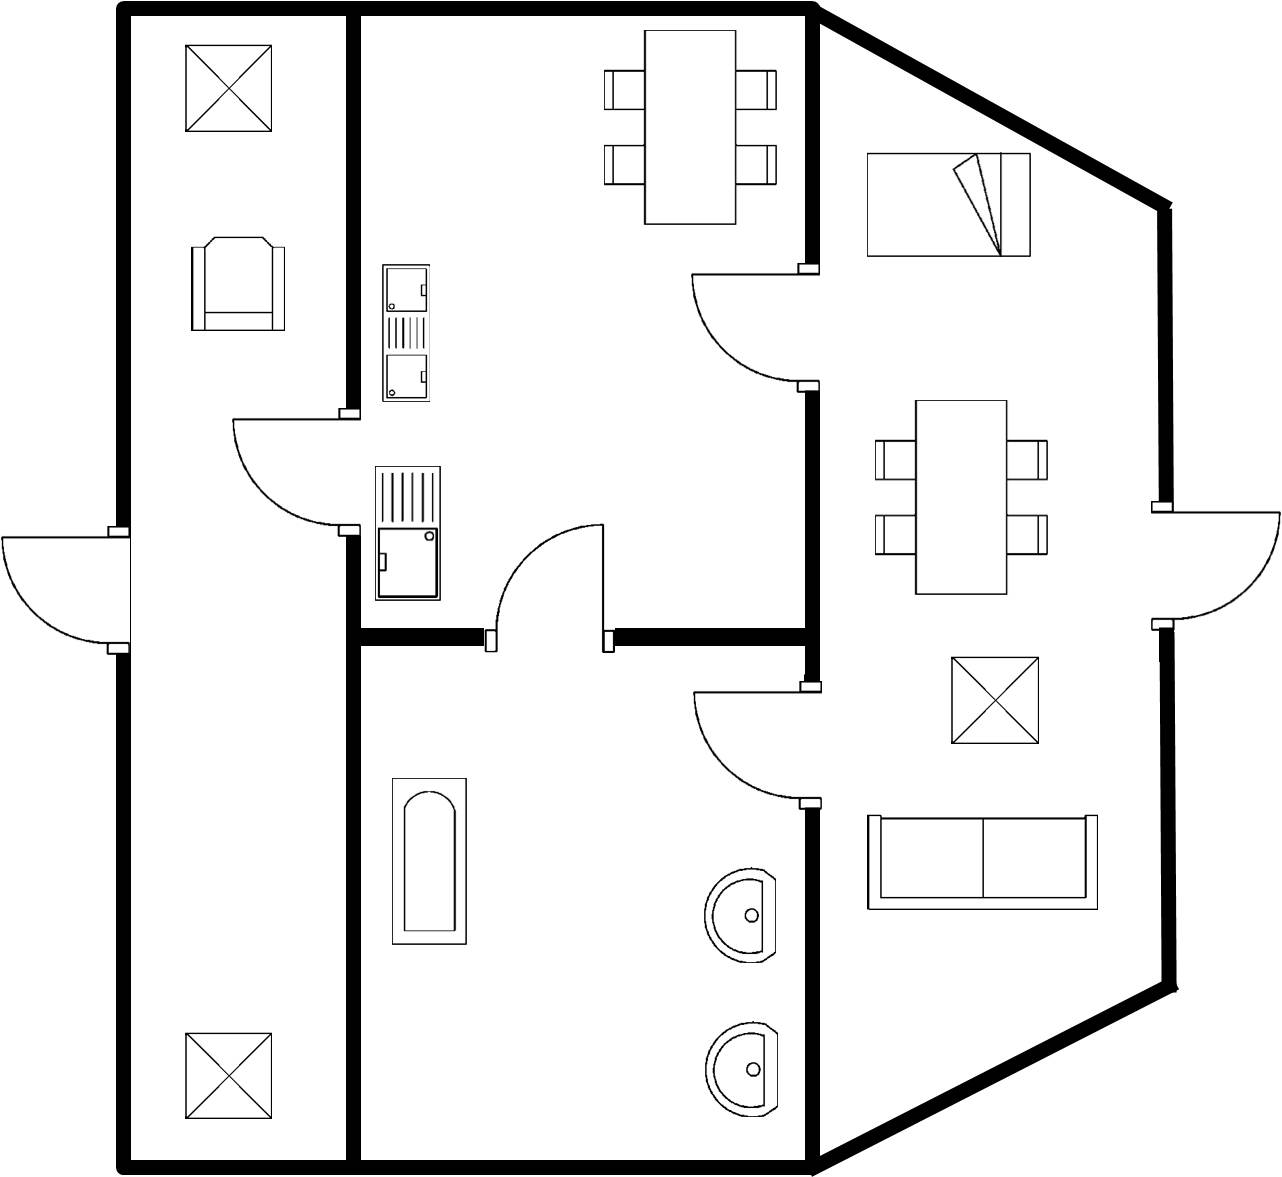armchair: (184, 228, 294, 343)
bed: (857, 143, 1038, 269)
coffee_table: (939, 648, 1049, 754), (172, 1024, 284, 1128), (179, 35, 283, 143)
dining_table: (864, 388, 1056, 603), (596, 24, 785, 234)
large_sofa: (856, 805, 1104, 920)
sink: (365, 456, 450, 609)
small_sink: (690, 858, 784, 971), (696, 1011, 785, 1123)
tub: (377, 769, 477, 956)
twin_sink: (372, 257, 439, 413)
